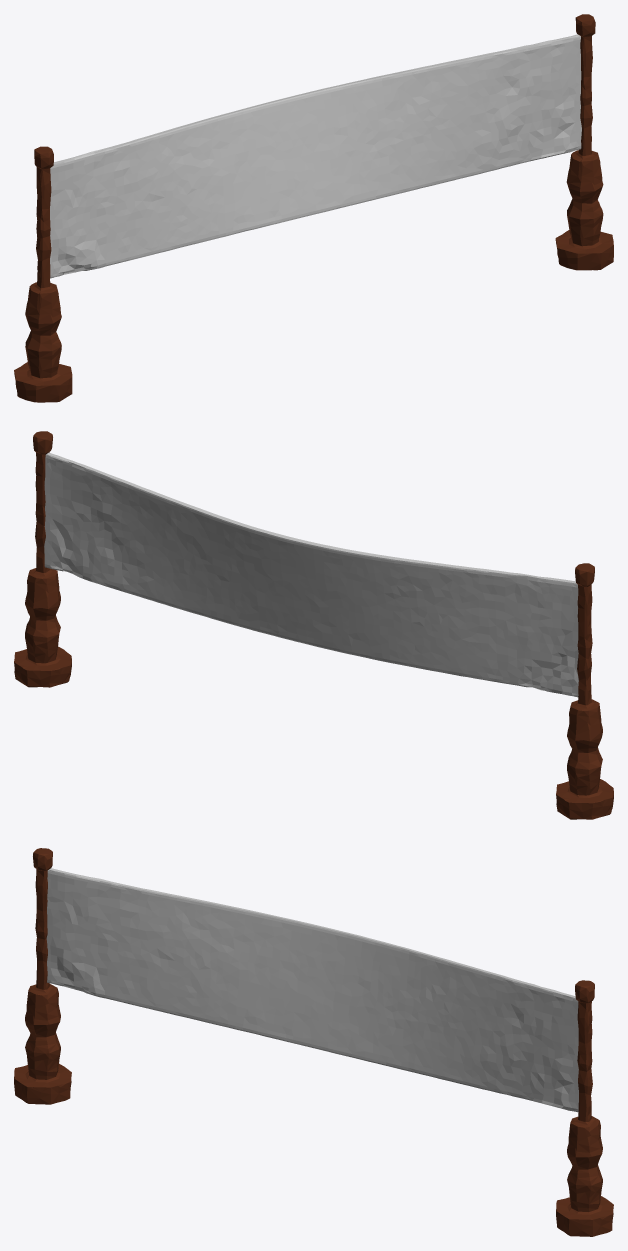
File: DesertLandSnakeFlag0351.obj
3 renders of one model, top to bottom at view 1: azimuth 30°, elevation 25°; view 2: azimuth 150°, elevation 25°; view 3: azimuth 330°, elevation 25°, orthographic.
Parts seen in each view (by area): view 1: Cube.003, Cube, Cube.002; view 2: Cube.003, Cube, Cube.002; view 3: Cube.003, Cube.002, Cube.
Boxes of the visible parts, bbox=[...] form: Cube.003: bbox=[50, 34, 581, 278]; Cube: bbox=[14, 146, 72, 402]; Cube.002: bbox=[555, 14, 613, 270]; Cube.003: bbox=[44, 452, 578, 697]; Cube: bbox=[556, 563, 613, 819]; Cube.002: bbox=[14, 431, 71, 687]; Cube.003: bbox=[46, 868, 578, 1112]; Cube.002: bbox=[556, 980, 613, 1236]; Cube: bbox=[14, 848, 71, 1104].
Bounding box in the file's own units: 27.57 × 10.7 × 2.84.
